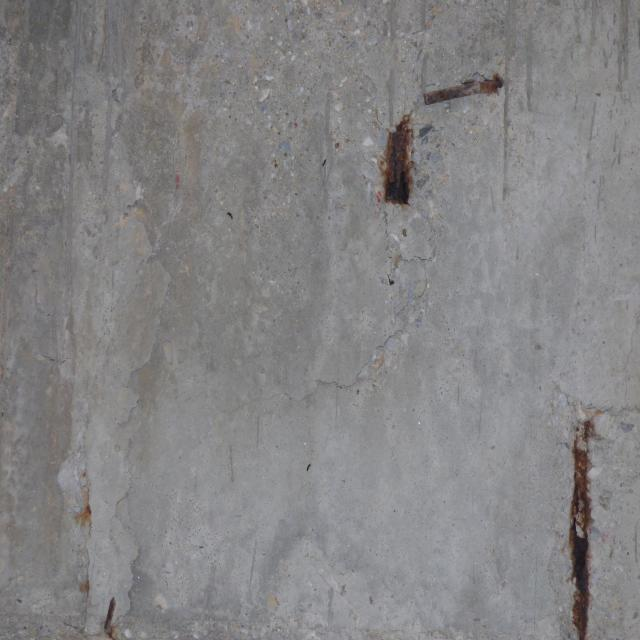corrosion: (560, 398, 605, 640), (74, 462, 120, 640), (378, 79, 418, 220), (414, 71, 521, 107)
